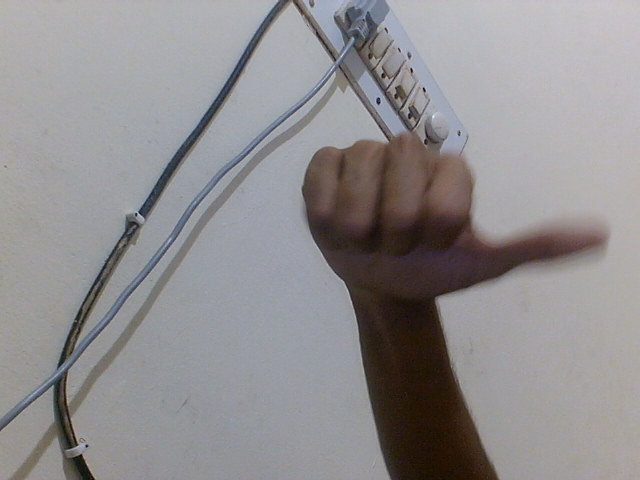hand: (297, 129, 617, 320)
